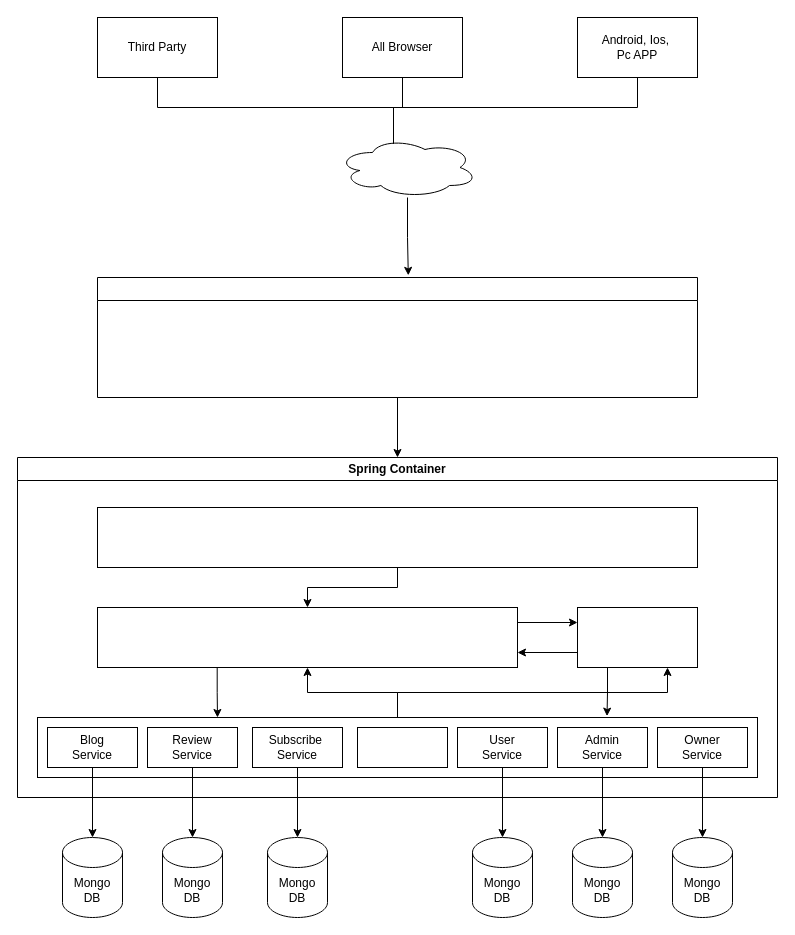
Image size: 795x935. Some labels were removed from this diagram. Each missing label, with the centre of its shape:
"API Gateway" belongs at pixel 307 637.
"Authentication / Authorization" belongs at pixel 637 637.
"Network" belongs at pixel 407 167.
"OTP Service" belongs at pixel 402 747.
"React APP" belongs at pixel 397 337.
"Registry & Discovery Service" belongs at pixel 397 537.
